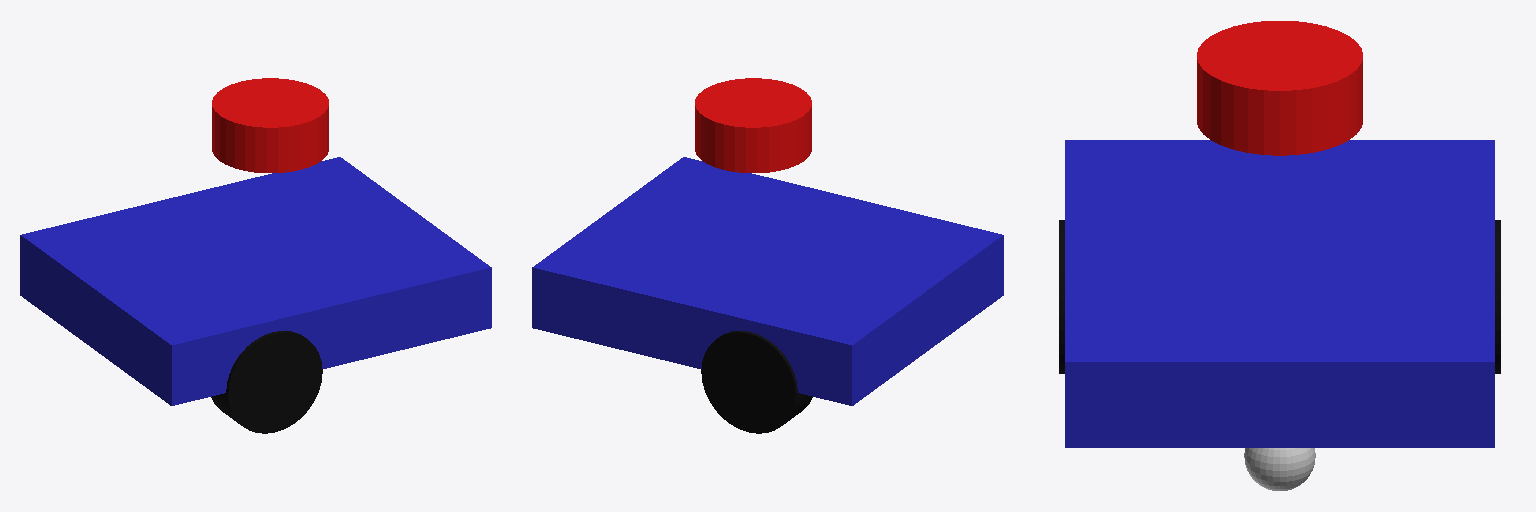
robot.urdf — diff_drive_robot:
<?xml version="1.0"?>
<robot name="diff_drive_robot">

  <!-- Vật liệu màu sắc -->
  <material name="chassis_color"><color rgba="0.2 0.2 0.8 0.8"/></material>
  <material name="wheel_color"><color rgba="0.1 0.1 0.1 1.0"/></material>
  <material name="caster_color"><color rgba="0.8 0.8 0.8 1.0"/></material>
  <material name="lidar_color"><color rgba="0.9 0.1 0.1 1.0"/></material>

  <!-- Khung toạ độ đáy tiếp đất (base_footprint) nằm tại trung điểm hình chiếu trục 2 bánh chủ động -->
  <link name="base_footprint"/>

  <!-- Khung thân xe chính (base_link) -->
  <joint name="base_footprint_joint" type="fixed">
    <parent link="base_footprint"/>
    <child link="base_link"/>
    <!-- Nâng lên theo bán kính bánh xe 32.5mm = 0.0325m -->
    <origin xyz="0 0 0.0325" rpy="0 0 0"/>
  </joint>

  <link name="base_link">
    <!-- Khung thân xe hình hộp chữ nhật hoặc elip -->
    <visual>
      <origin xyz="0.04 0 0.02" rpy="0 0 0"/>
      <geometry>
        <box size="0.22 0.18 0.04"/>
      </geometry>
      <material name="chassis_color"/>
    </visual>
    <collision>
      <origin xyz="0.04 0 0.02" rpy="0 0 0"/>
      <geometry>
        <box size="0.22 0.18 0.04"/>
      </geometry>
    </collision>
  </link>

  <!-- ========================================== -->
  <!-- 1. BÁNH CHỦ ĐỘNG TRÁI (LEFT DRIVE WHEEL)   -->
  <!-- ========================================== -->
  <joint name="left_wheel_joint" type="fixed">
    <parent link="base_link"/>
    <child link="left_wheel_link"/>
    <!-- Đặt tại trục Y = +0.08m (Khoảng cách giữa 2 bánh L = 0.16m) -->
    <origin xyz="0 0.08 0" rpy="-1.5707963 0 0"/>
  </joint>

  <link name="left_wheel_link">
    <visual>
      <geometry>
        <!-- Bán kính 0.0325m (đường kính 65mm), bề rộng 0.025m -->
        <cylinder radius="0.0325" length="0.025"/>
      </geometry>
      <material name="wheel_color"/>
    </visual>
    <collision>
      <geometry>
        <cylinder radius="0.0325" length="0.025"/>
      </geometry>
    </collision>
  </link>

  <!-- ========================================== -->
  <!-- 2. BÁNH CHỦ ĐỘNG PHẢI (RIGHT DRIVE WHEEL) -->
  <!-- ========================================== -->
  <joint name="right_wheel_joint" type="fixed">
    <parent link="base_link"/>
    <child link="right_wheel_link"/>
    <!-- Đặt tại trục Y = -0.08m -->
    <origin xyz="0 -0.08 0" rpy="1.5707963 0 0"/>
  </joint>

  <link name="right_wheel_link">
    <visual>
      <geometry>
        <cylinder radius="0.0325" length="0.025"/>
      </geometry>
      <material name="wheel_color"/>
    </visual>
    <collision>
      <geometry>
        <cylinder radius="0.0325" length="0.025"/>
      </geometry>
    </collision>
  </link>

  <!-- ========================================== -->
  <!-- 3. BÁNH TỰ DO / CASTOR WHEEL (PHÍA TRƯỚC)  -->
  <!-- ========================================== -->
  <joint name="caster_wheel_joint" type="fixed">
    <parent link="base_link"/>
    <child link="caster_wheel_link"/>
    <!-- Đặt phía trước trục bánh chủ động 12cm (x = +0.12m), hạ sát mặt đất -->
    <origin xyz="0.12 0 -0.0175" rpy="0 0 0"/>
  </joint>

  <link name="caster_wheel_link">
    <visual>
      <!-- Bánh tự do dạng hình cầu lăn tiếp đất (bán kính 15mm) -->
      <geometry>
        <sphere radius="0.015"/>
      </geometry>
      <material name="caster_color"/>
    </visual>
    <collision>
      <geometry>
        <sphere radius="0.015"/>
      </geometry>
    </collision>
  </link>

  <!-- ========================================== -->
  <!-- CẢM BIẾN QUÁN TÍNH MPU6050 (IMU)           -->
  <!-- ========================================== -->
  <joint name="imu_joint" type="fixed">
    <parent link="base_link"/>
    <child link="imu_link"/>
    <origin xyz="0.02 0 0.04" rpy="0 0 0"/>
  </joint>

  <link name="imu_link"/>

  <!-- ========================================== -->
  <!-- CẢM BIẾN LIDAR LD14                        -->
  <!-- ========================================== -->
  <joint name="laser_joint" type="fixed">
    <parent link="base_link"/>
    <child link="laser_frame"/>
    <!-- Đặt cao hơn thân xe 10cm tại trục giữa -->
    <origin xyz="0.05 0 0.12" rpy="0 0 0"/>
  </joint>

  <link name="laser_frame">
    <visual>
      <geometry>
        <cylinder radius="0.035" length="0.03"/>
      </geometry>
      <material name="lidar_color"/>
    </visual>
    <collision>
      <geometry>
        <cylinder radius="0.035" length="0.03"/>
      </geometry>
    </collision>
  </link>

</robot>

--- Render facts (derived) ---
Views: 3 orthographic renders of the robot side by side, from view 1: azimuth 30°, elevation 25°; view 2: azimuth 150°, elevation 25°; view 3: azimuth 270°, elevation 25°.
Model diff_drive_robot with 7 links and 6 joints (6 fixed), rooted at base_footprint, posed every joint at zero.
Visible links, largest first — view 1: base_link, laser_frame, right_wheel_link; view 2: base_link, laser_frame, left_wheel_link; view 3: base_link, laser_frame, caster_wheel_link, left_wheel_link, right_wheel_link.
Link boxes in pixels (x1,y1,x2,y2): base_link: (20,157,491,405); laser_frame: (212,78,328,172); right_wheel_link: (211,331,322,433); base_link: (532,157,1003,405); laser_frame: (695,78,811,172); left_wheel_link: (701,331,812,433); base_link: (1065,140,1494,447); laser_frame: (1197,21,1362,155); caster_wheel_link: (1244,448,1315,490); left_wheel_link: (1495,220,1500,373); right_wheel_link: (1059,220,1064,373).
Bounding box of the posed robot: 0.22 × 0.185 × 0.1675 m (x, y, z).
Geometry: primitives only (box / cylinder / sphere), no mesh files.
